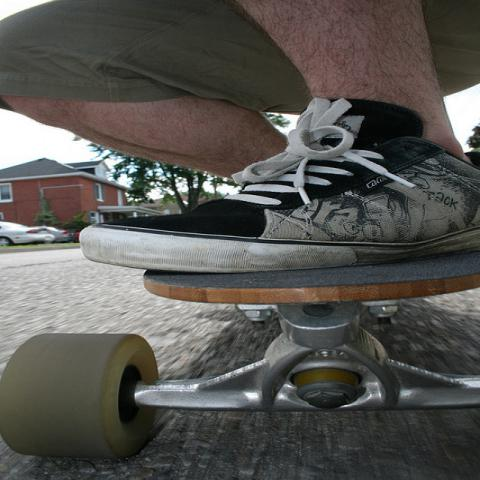car: (0, 221, 59, 247), (35, 225, 70, 243), (68, 231, 77, 243)
